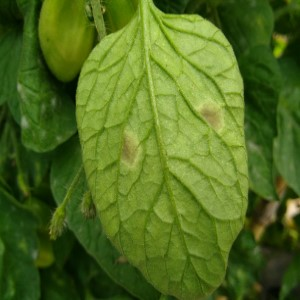cladosporium: (199, 104, 223, 132), (120, 134, 137, 167)
